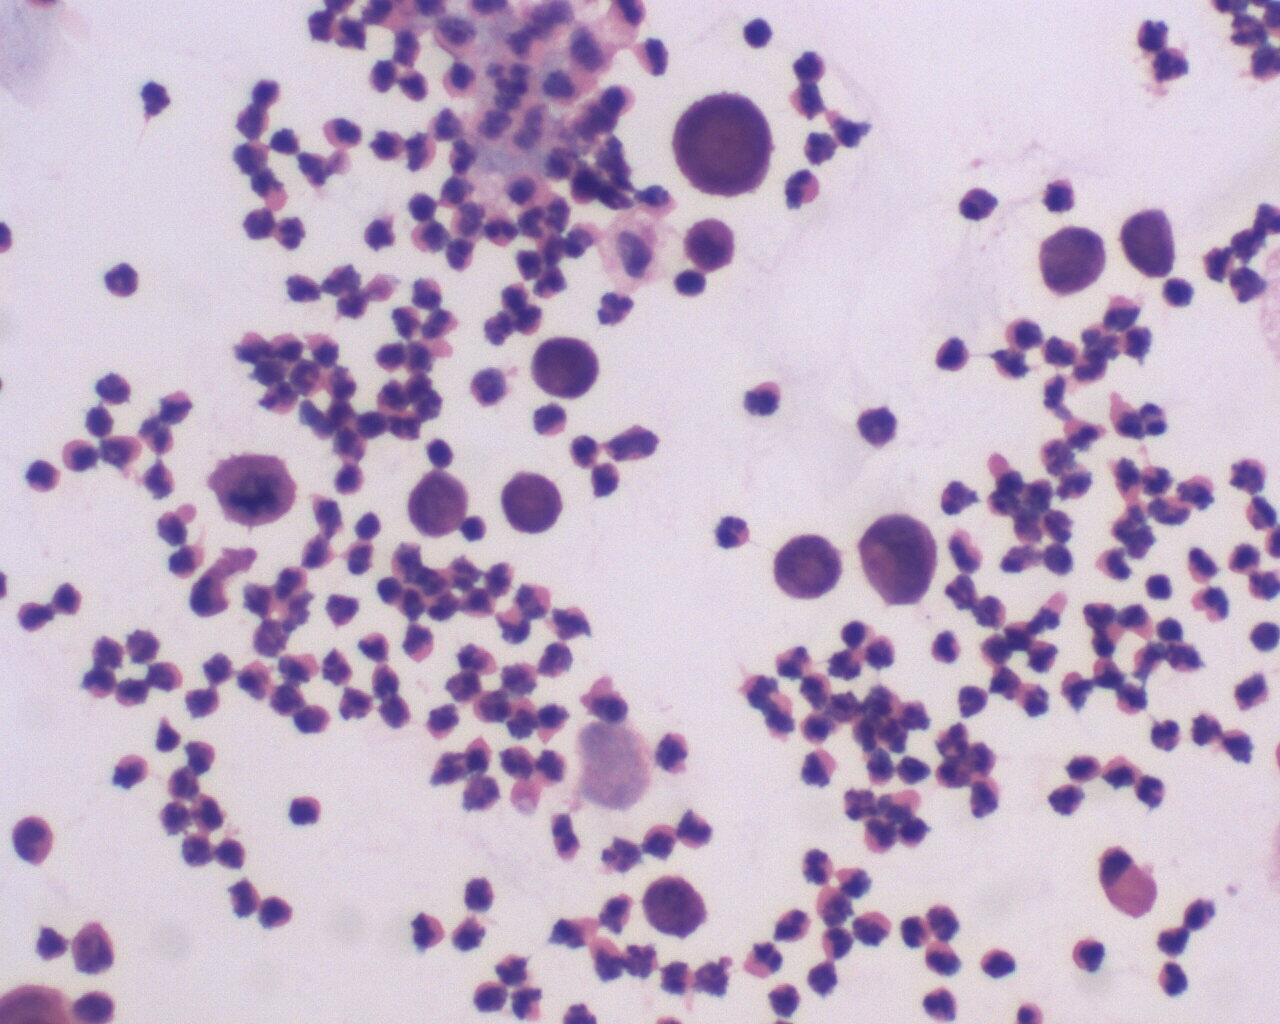ab: (672, 84, 774, 194), (856, 513, 937, 610), (211, 449, 298, 536), (771, 529, 846, 609), (1035, 224, 1106, 299), (400, 469, 468, 544), (1115, 206, 1180, 284), (499, 467, 567, 539), (641, 875, 709, 945), (531, 334, 603, 401), (684, 215, 737, 273)
lymph: (738, 14, 776, 50), (672, 267, 709, 300)
neutro: (746, 937, 789, 981), (286, 787, 329, 831), (1150, 47, 1196, 88), (709, 510, 753, 552), (801, 843, 844, 885), (773, 905, 815, 945), (1049, 781, 1089, 822), (1069, 933, 1107, 976), (481, 210, 521, 249), (408, 911, 447, 950), (113, 753, 150, 791), (1134, 770, 1169, 810), (276, 211, 311, 251), (1154, 962, 1193, 997), (929, 625, 962, 665)
